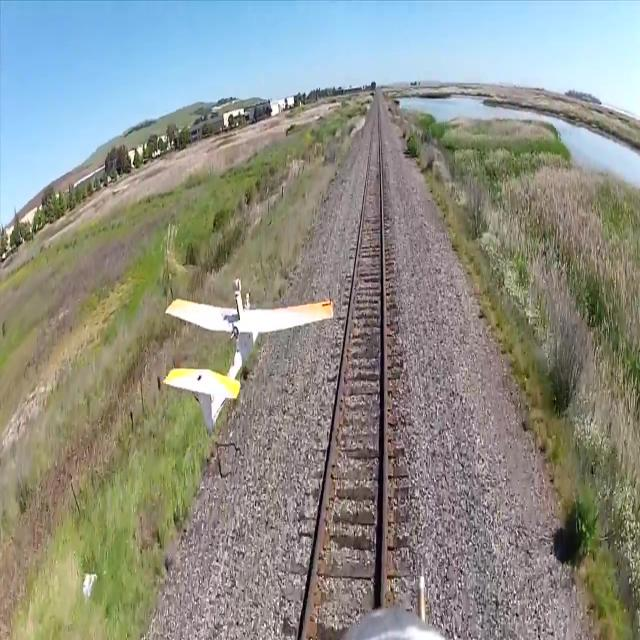iha: (162, 279, 334, 435)
